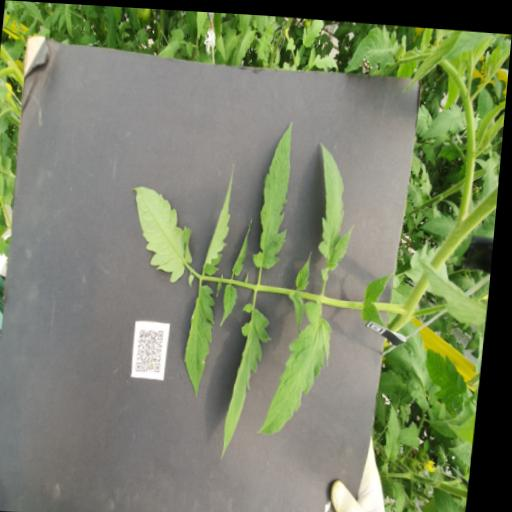Healthy: (263, 294, 339, 436), (227, 299, 279, 459), (310, 140, 365, 279), (125, 183, 202, 282), (254, 115, 300, 267), (186, 281, 222, 395), (206, 158, 239, 275), (343, 18, 400, 72), (427, 342, 476, 404), (386, 339, 439, 384), (422, 96, 468, 140), (389, 397, 410, 457), (437, 480, 476, 512), (235, 214, 256, 273), (214, 23, 243, 62), (422, 207, 460, 234), (298, 246, 317, 287), (225, 281, 243, 324), (301, 15, 323, 45), (313, 50, 340, 69), (406, 420, 428, 443), (409, 178, 428, 201)
